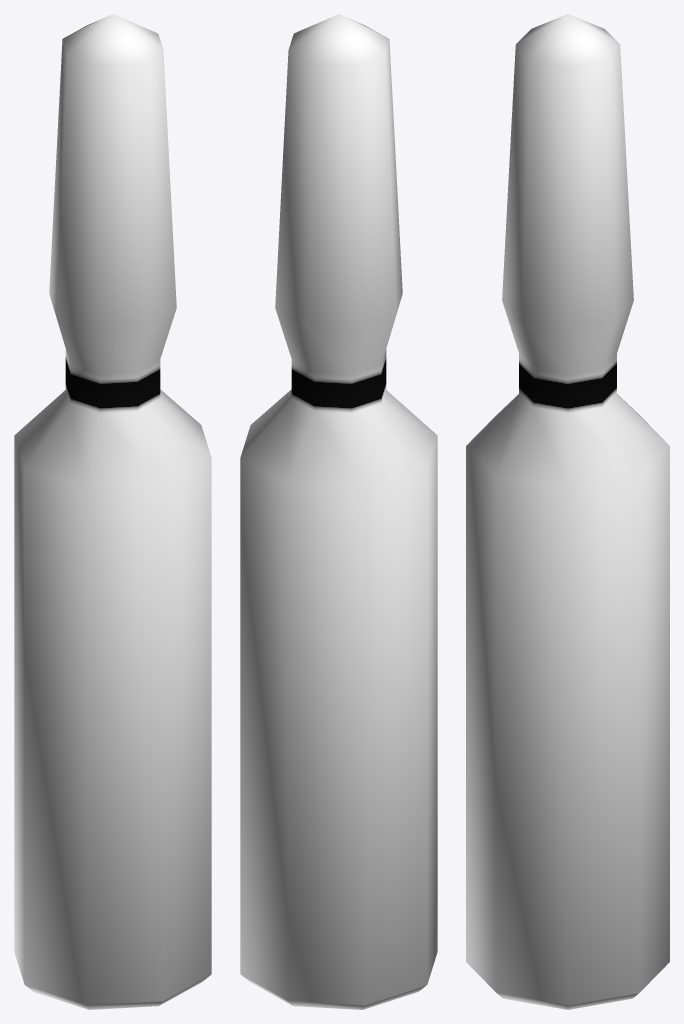
File: ampoule.fbx
3 renders of one model, left to right at view 1: azimuth 30°, elevation 25°; view 2: azimuth 150°, elevation 25°; view 3: azimuth 270°, elevation 25°, orthographic.
Visible parts, largest first — view 1: ampoule; view 2: ampoule; view 3: ampoule.
Part boxes in pixels (x1,y1,x2,y2): ampoule: (14, 14, 211, 1009); ampoule: (240, 14, 437, 1009); ampoule: (466, 14, 669, 1009).
Bounding box in the file's own units: 0.0116 × 0.06 × 0.0116.
